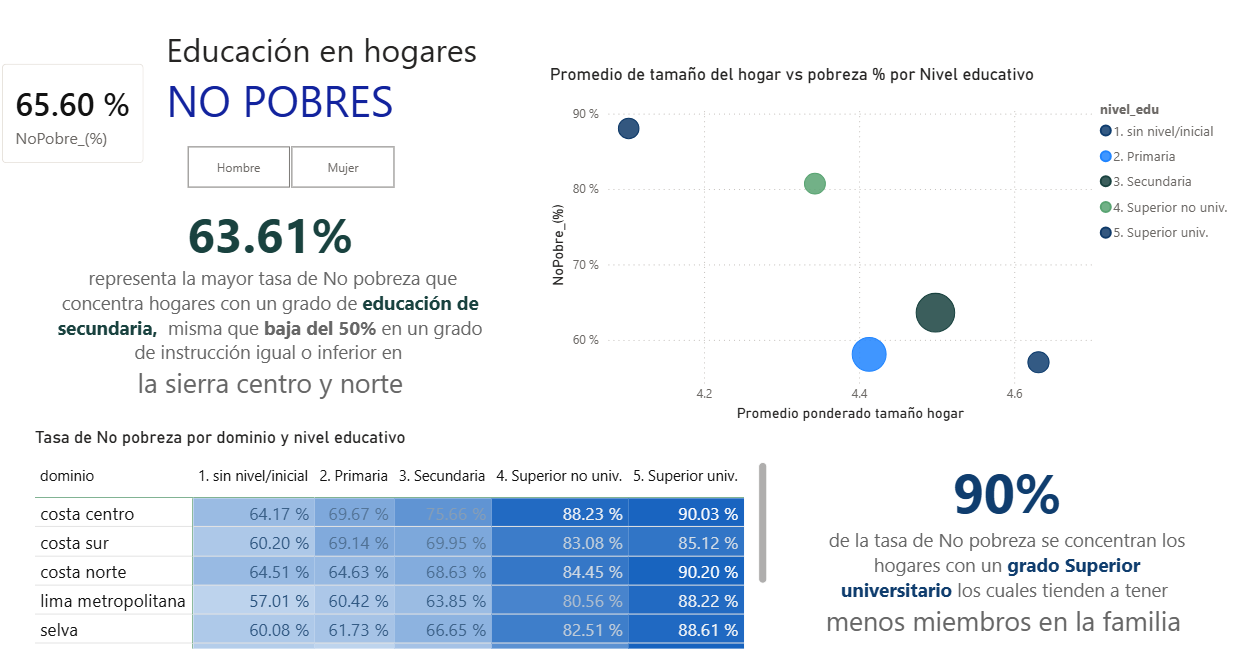

This screenshot's page, from the dashboard's own definition file:
{"tool":"powerbi","page":{"name":"Sobre el Hogar","canvas":[1280,720],"ordinal":3},"visuals":[{"type":"scatterChart","title":"Promedio de tamaño del hogar vs pobreza % por Nivel educativo","fields":{"Series":["ENAHO.nivel_edu"],"Size":["ENAHO.Población expandida"],"X":["ENAHO.Promedio ponderado tamaño hogar"],"Y":["ENAHO.NoPobre_(%)"]},"box":[557.1,81.4,693.3,360],"z":0},{"type":"textbox","box":[175.7,40,383.3,125],"z":1000},{"type":"slicer","fields":{"Values":["ENAHO.sexo_jefe"]},"box":[175.7,155.7,255.8,55.4],"z":3000},{"type":"pivotTable","title":"Tasa de No pobreza por dominio y nivel educativo","fields":{"Columns":["ENAHO.nivel_edu"],"Rows":["ENAHO.dominio"],"Values":["ENAHO.NoPobre_(%)"]},"box":[44.3,441.4,738.6,225.7],"z":4000},{"type":"cardVisual","fields":{"Data":["ENAHO.NoPobre_(%)"]},"box":[0,62.9,175.4,133.1],"z":5000},{"type":"textbox","box":[61.4,211.4,445.7,215.7],"z":6000},{"type":"textbox","box":[828.6,465.7,377.1,201.4],"z":7000}]}

Visuals, with their boxes on the page's 1280x720 design canvas (x1, y1, x2, y2). These are canvas units, not pixel positions in the 1238x663 screenshot, which may show the page scaled, cropped or inside an application window:
"Promedio de tamaño del hogar vs pobreza % por Nivel educativo" scatterChart: 557:81:1250:441
textbox: 176:40:559:165
slicer - ENAHO.sexo_jefe: 176:156:432:211
"Tasa de No pobreza por dominio y nivel educativo" pivotTable: 44:441:783:667
cardVisual - ENAHO.NoPobre_(%): 0:63:175:196
textbox: 61:211:507:427
textbox: 829:466:1206:667
